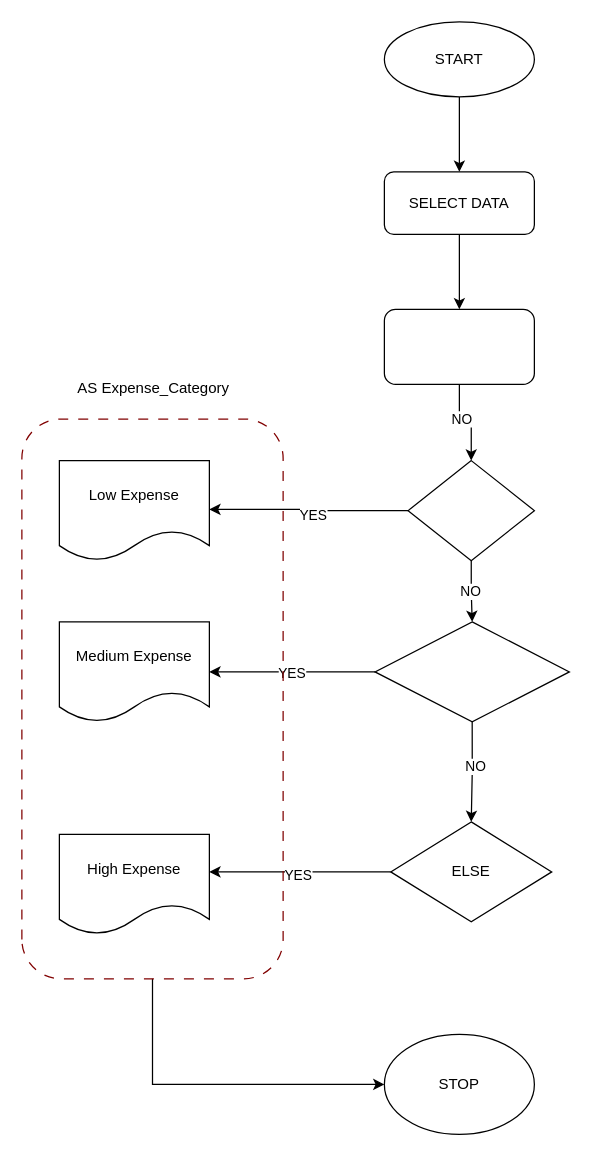
Image size: 591x1156. Some labels were removed from this diagram. Here are the shapes that lost their labels. From the top down, the centre of each, then its label:
pixel 458 346: CASE STUDY
pixel 470 510: Amount<= 50
pixel 471 671: Amount > 50 & Amount <= 100
